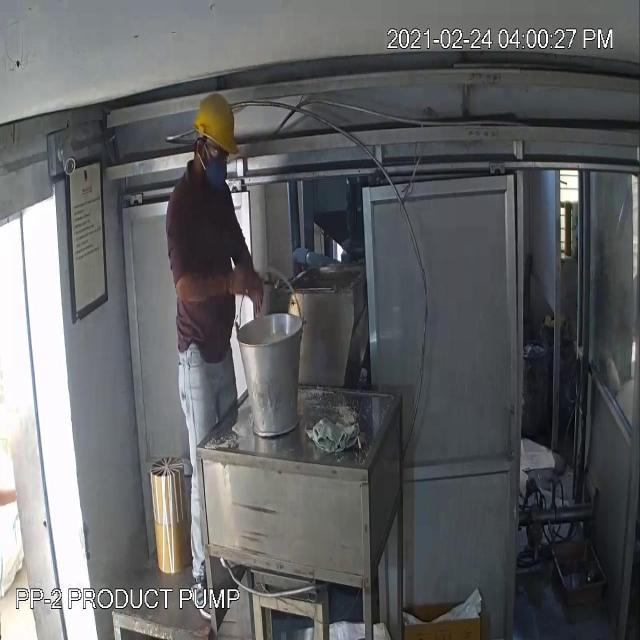helmet: (189, 88, 249, 158)
